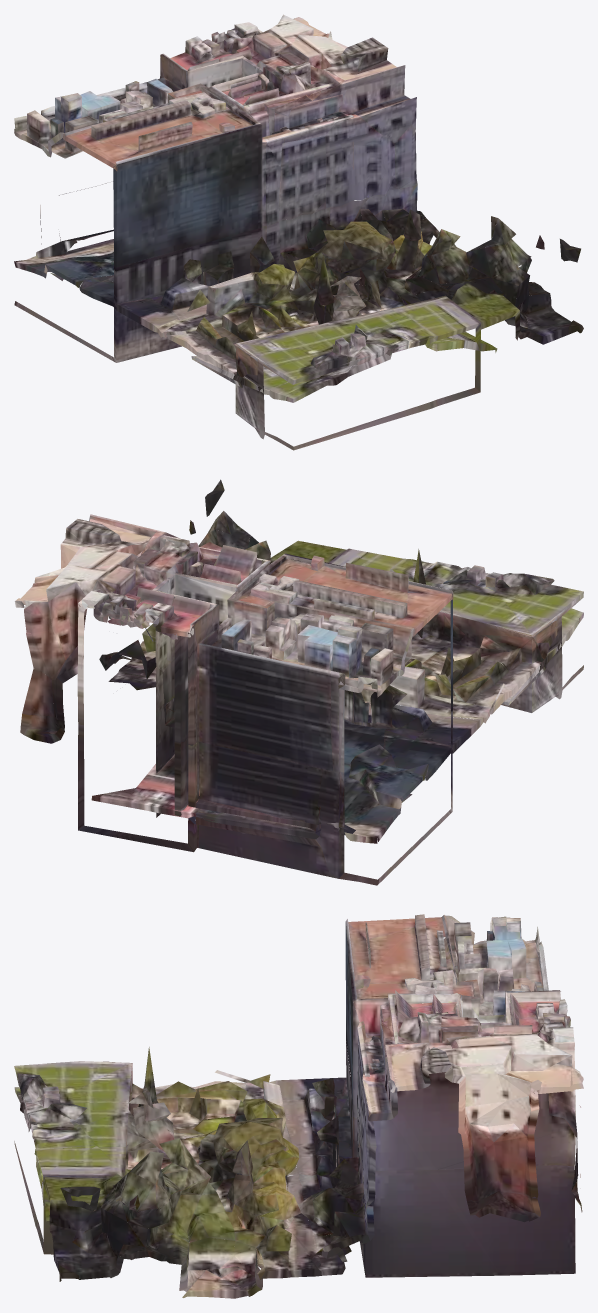
3 renders of one model, top to bottom at view 1: azimuth 30°, elevation 25°; view 2: azimuth 150°, elevation 25°; view 3: azimuth 270°, elevation 25°, orthographic. The views are drawn at different scales.
Parts seen in each view (by area): view 1: Mesh_0; view 2: Mesh_0; view 3: Mesh_0.
Part boxes in pixels (x1,y1,x2,y2): Mesh_0: (14, 14, 583, 450); Mesh_0: (14, 479, 583, 885); Mesh_0: (14, 914, 583, 1298).
Size of the model in its own units: 67.15 by 39.82 by 82.65.
2 materials, 2 textured.
